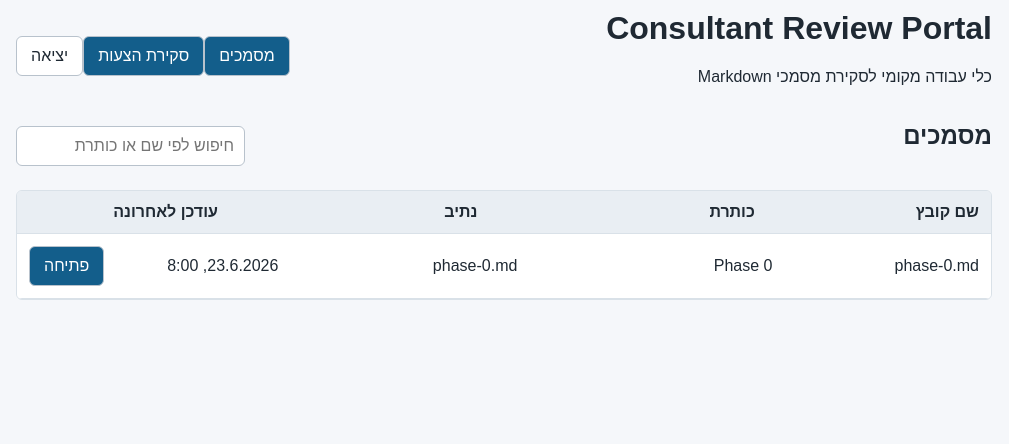
App › filters the review dashboard
This screenshot has width=1009, height=444.
Click the button "סקירת הצעות" at [144, 56], box [83,36,204,76]
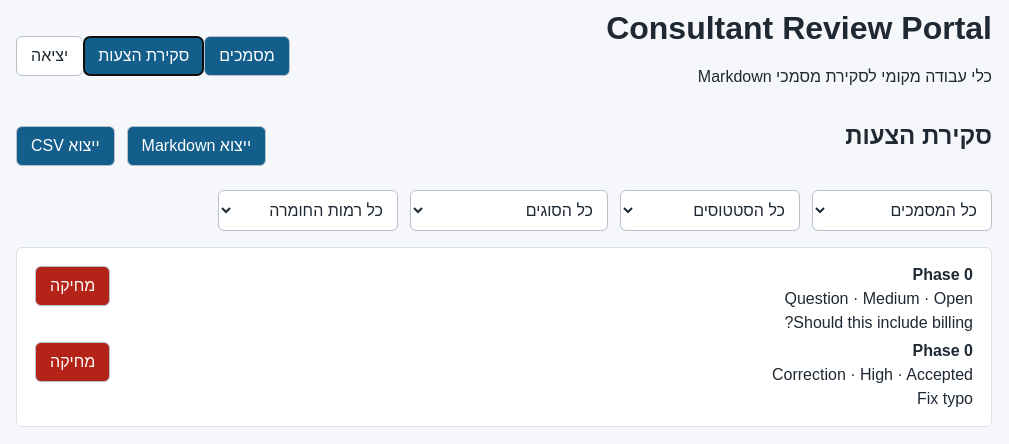
Select "Accepted" in the dropdown named "סינון לפי סטטוס" at [710, 211], box [620,190,800,231]
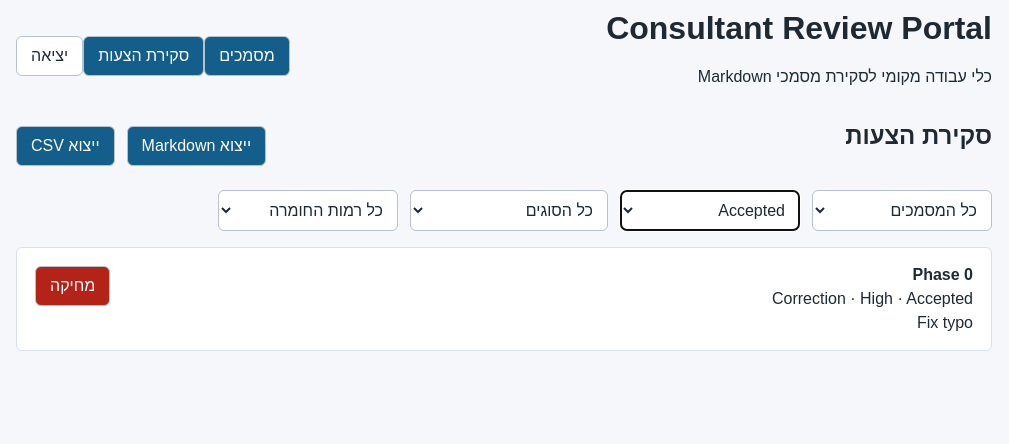
Check: the text "Fix typo" is shown, box [917,314,973,331]
Check: the button "Should this include billing?" is gone
